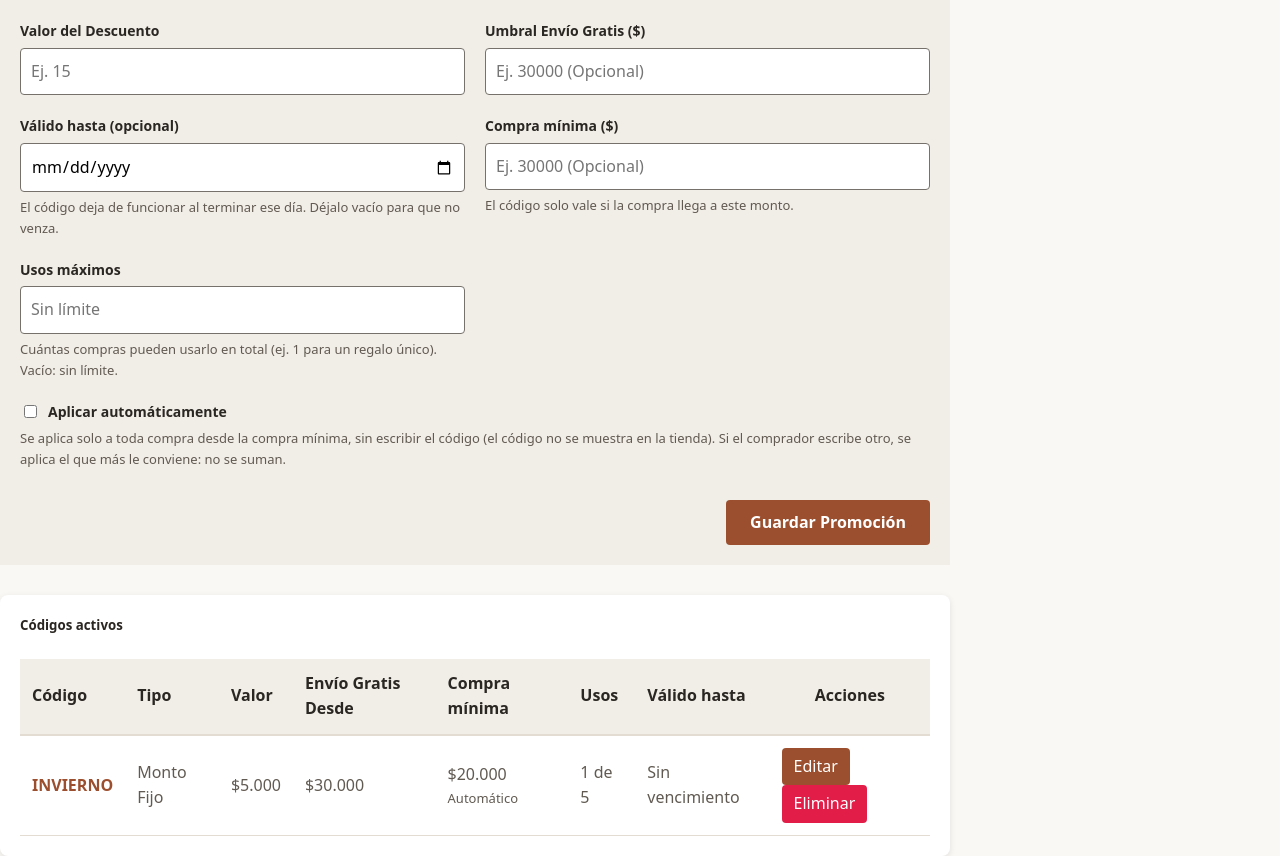
Test: GestorPromociones › carga los datos de una promoción al presionar editar
(page scrolled)
Step 1. Click the button "Editar" → x=816, y=766, box [782,748,850,785]
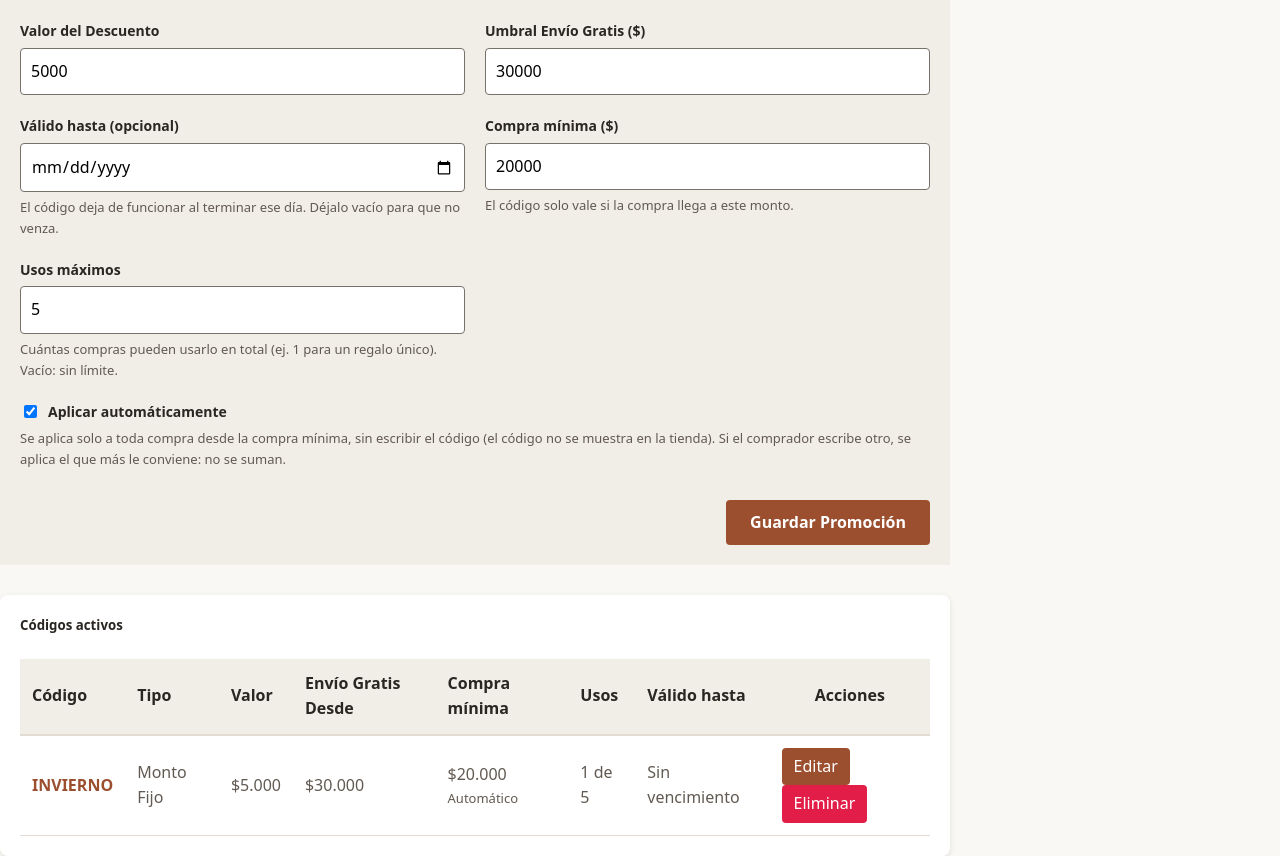
Check: the number field labelled "Valor del Descuento" holds "5000", box [20,48,465,95]
Check: the number field labelled "Umbral Envío Gratis ($)" holds "30000", box [485,48,930,95]
Check: the number field labelled "Compra mínima ($)" holds "20000", box [485,143,930,190]
